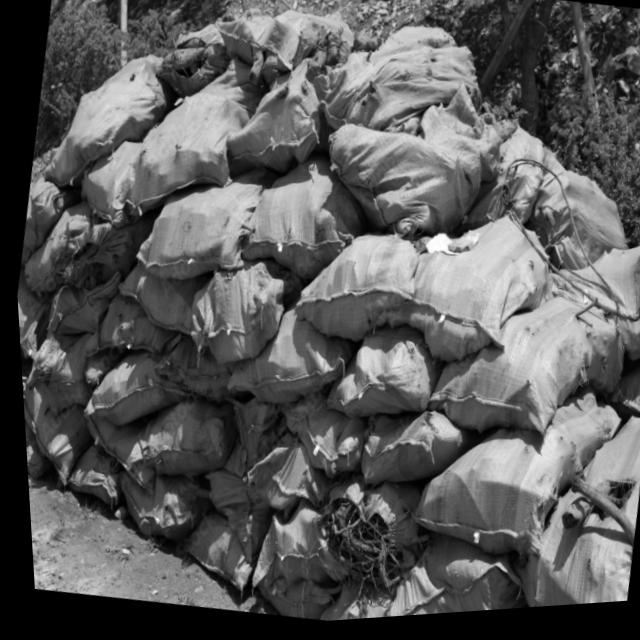sack: (396, 371, 625, 581), (414, 278, 632, 465), (309, 65, 513, 260), (358, 197, 560, 387), (371, 196, 557, 384), (495, 408, 640, 615), (313, 12, 493, 159), (119, 47, 262, 231), (33, 38, 177, 203), (228, 150, 367, 294), (124, 156, 267, 295), (282, 220, 423, 355), (213, 50, 332, 196), (204, 0, 359, 110), (218, 298, 357, 416), (520, 152, 638, 287), (536, 230, 640, 376), (317, 317, 442, 432), (173, 252, 288, 376), (237, 502, 351, 627), (373, 528, 521, 622), (16, 195, 137, 302), (308, 472, 424, 581), (116, 386, 235, 488), (350, 402, 463, 502), (73, 342, 189, 438), (460, 122, 549, 239), (268, 381, 368, 484), (147, 15, 237, 116), (107, 255, 206, 343), (235, 429, 328, 521), (190, 468, 273, 571), (106, 465, 205, 549), (166, 506, 255, 599), (70, 409, 160, 497), (18, 379, 91, 487), (15, 323, 94, 420), (71, 133, 143, 235), (144, 331, 232, 406), (90, 290, 179, 361), (43, 260, 121, 338), (213, 394, 279, 481), (14, 176, 66, 268), (56, 439, 121, 511), (13, 281, 53, 366)
